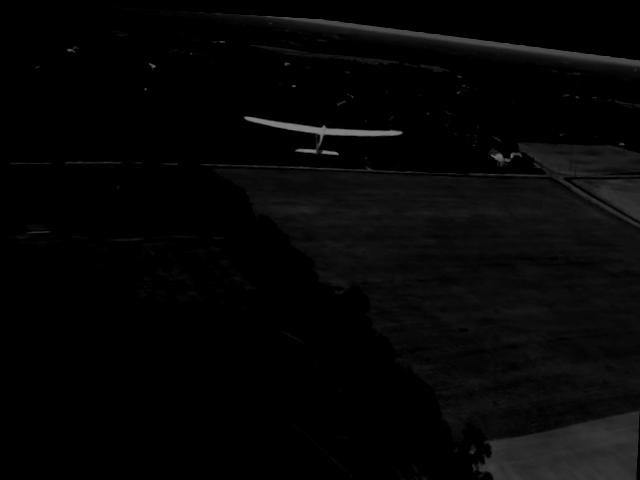hedef: (231, 89, 411, 180)
